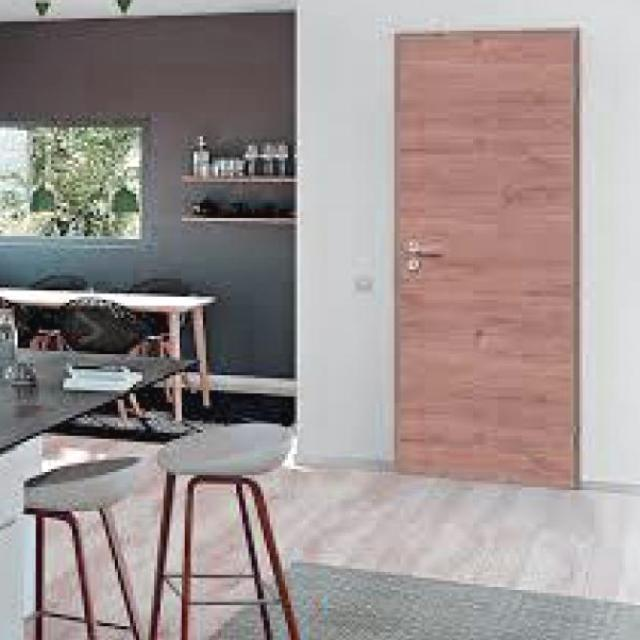door: (392, 27, 579, 488)
